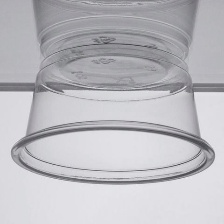glass: (7, 35, 218, 195)
